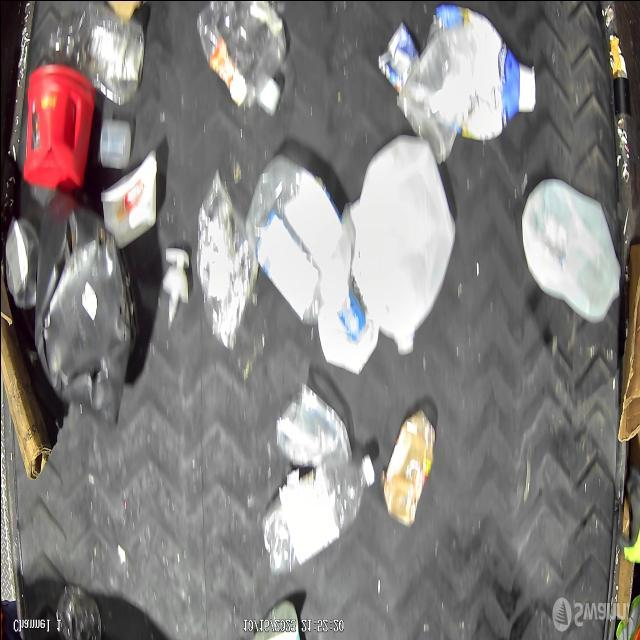can: (376, 20, 420, 96)
milk_jug: (348, 132, 456, 356), (518, 172, 622, 322)
non_white_jug: (31, 188, 140, 432)
plastic_bottle: (241, 150, 366, 346), (261, 451, 376, 577), (50, 0, 146, 108)
